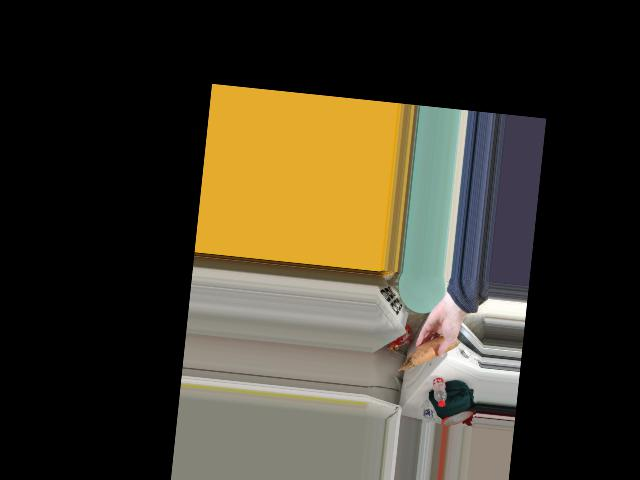sweet_potato: (414, 334, 449, 368)
